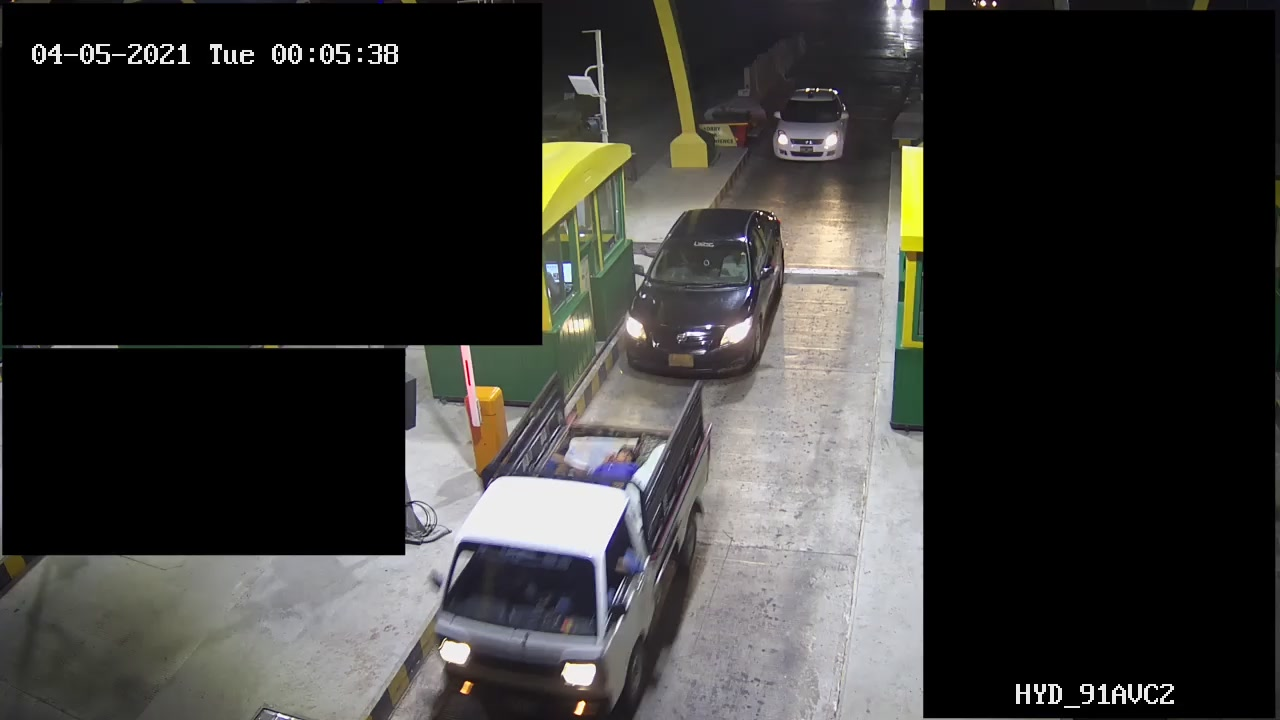F1: (614, 202, 801, 380)
